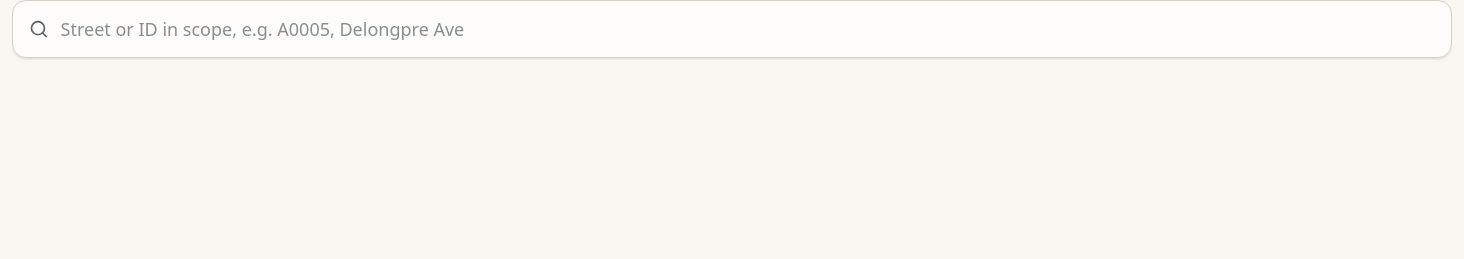
keyboard search › shows a clear control that empties the query
Type "Delongpre" into the dropdown at (748, 29), box [60,15,1435,43]
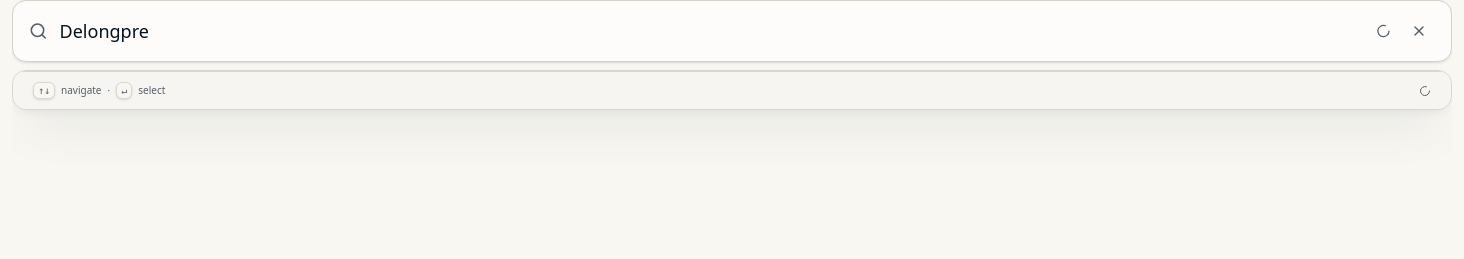
Click the button named "clear search" at (1419, 31), box [1403,15,1435,47]
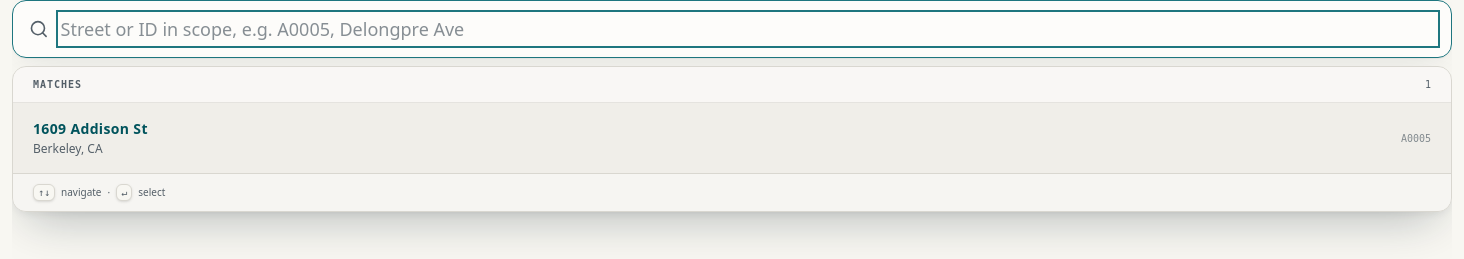
Expected: the dropdown is empty, [60,15,1435,43]
